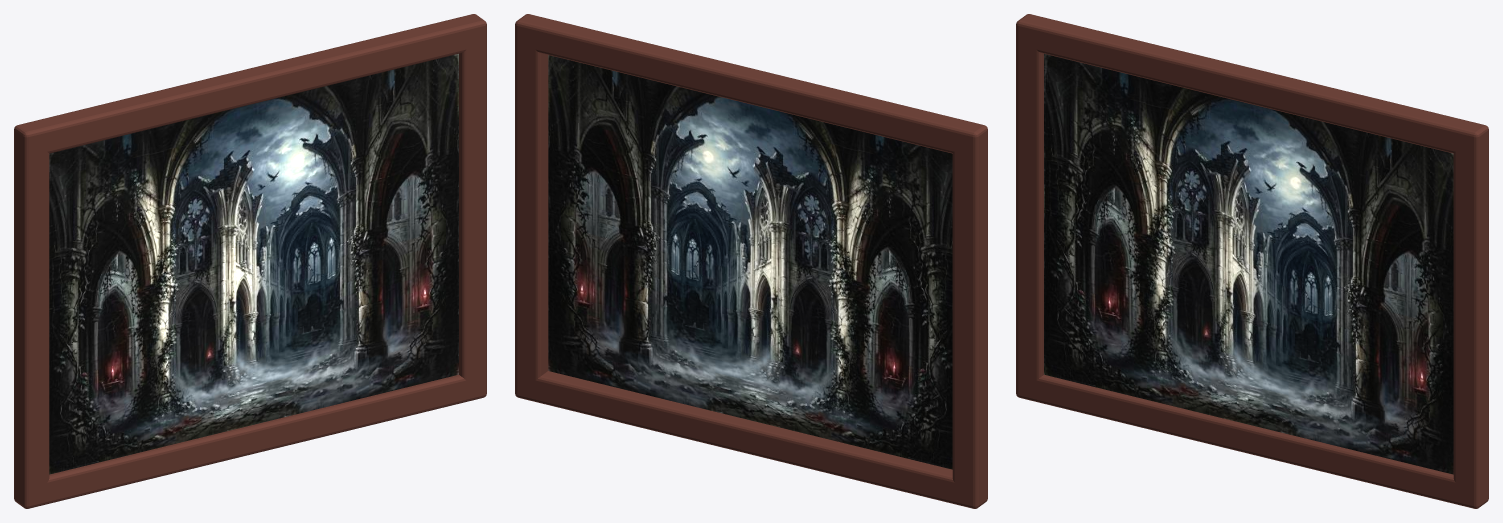
Rendered from art_ruined_cathedral.glb.
3 views of the same model, side by side, from view 1: azimuth 30°, elevation 25°; view 2: azimuth 150°, elevation 25°; view 3: azimuth 330°, elevation 25° (orthographic).
Visible parts, largest first — view 1: GD_art_ruined_cathedral__m0, GD_art_ruined_cathedral__m1; view 2: GD_art_ruined_cathedral__m0, GD_art_ruined_cathedral__m1; view 3: GD_art_ruined_cathedral__m0, GD_art_ruined_cathedral__m1.
Boxes of the visible parts, box(x1,y1,x2,y2) form: GD_art_ruined_cathedral__m0: box(49, 53, 458, 474); GD_art_ruined_cathedral__m1: box(14, 14, 486, 508); GD_art_ruined_cathedral__m0: box(548, 55, 952, 469); GD_art_ruined_cathedral__m1: box(515, 14, 987, 508); GD_art_ruined_cathedral__m0: box(1044, 53, 1453, 474); GD_art_ruined_cathedral__m1: box(1016, 14, 1488, 508).
Size of the model in its own units: 1.26 by 0.98 by 0.06.
2 materials, 1 textured.
